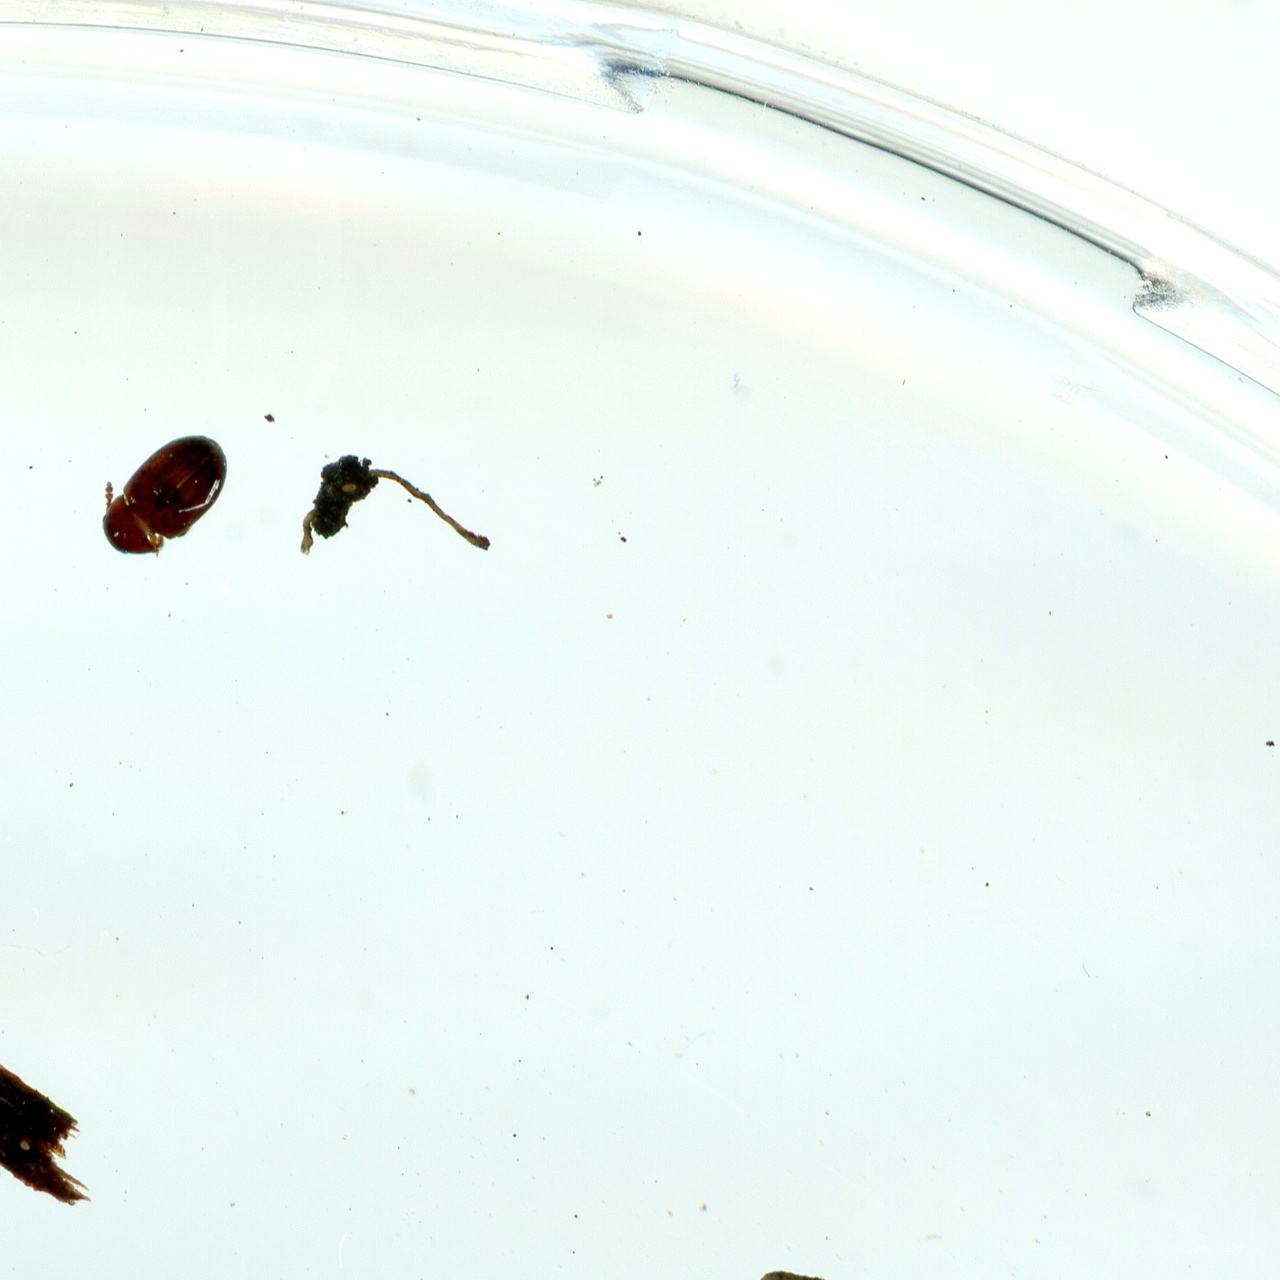arthropod: (96, 430, 233, 563)
